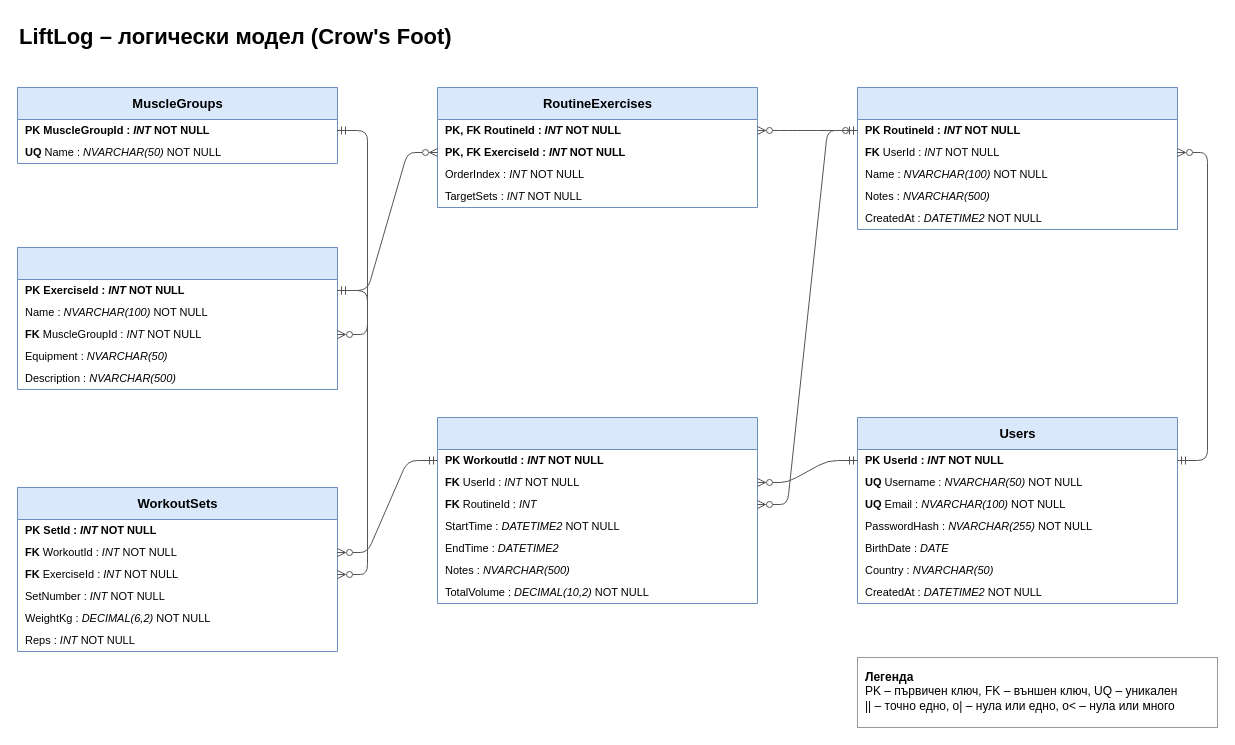
This 1235x745 diagram has some shape labels left out. Each missing label, with the box of its shape:
Exercises: (16, 246, 338, 390)
Routines: (856, 86, 1178, 230)
Workouts: (436, 416, 758, 604)
